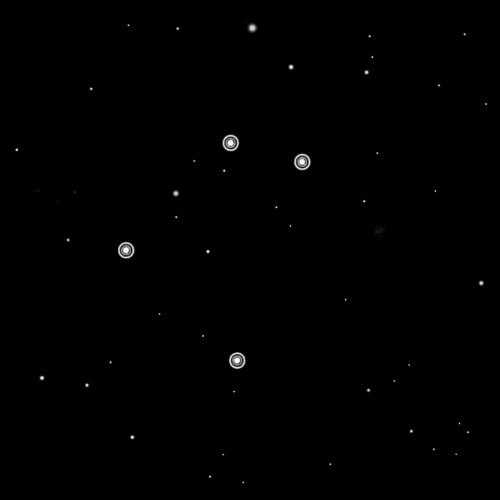coma_berenices: (106, 125, 324, 376)
